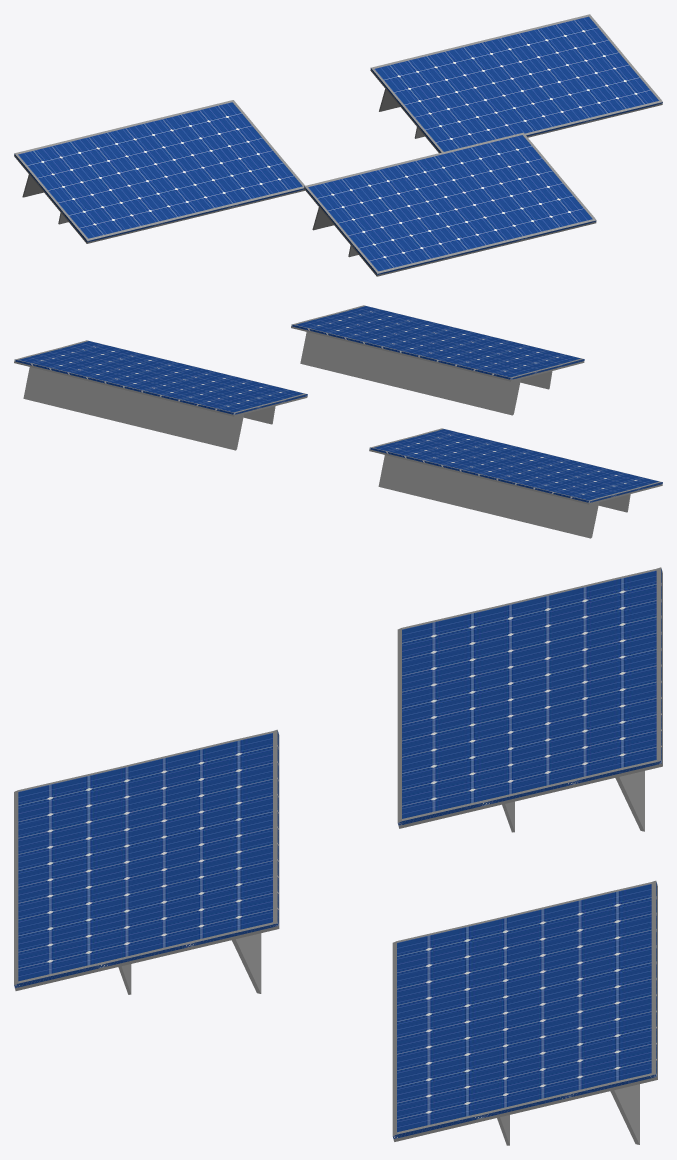
File: solars.glb
3 views of the same model, one above another, from view 1: azimuth 30°, elevation 25°; view 2: azimuth 150°, elevation 25°; view 3: azimuth 270°, elevation 25° (orthographic). The views are drawn at different scales.
Visible parts, largest first — view 1: Cube.006, Cube.004, Cube.005; view 2: Cube.004, Cube.005, Cube.006; view 3: Cube.006, Cube.004, Cube.005.
Boxes of the visible parts, <box> form: Cube.006: <box>304,132,596,276</box>; Cube.004: <box>14,100,305,243</box>; Cube.005: <box>370,14,662,152</box>; Cube.004: <box>369,428,662,538</box>; Cube.005: <box>14,340,307,450</box>; Cube.006: <box>291,305,584,415</box>; Cube.006: <box>14,729,279,994</box>; Cube.004: <box>397,567,662,832</box>; Cube.005: <box>392,880,657,1145</box>.
Size of what is drawn, in the model's own units: 15.21 by 1.06 by 8.23.
Materials: 2 (1 with a texture image).
